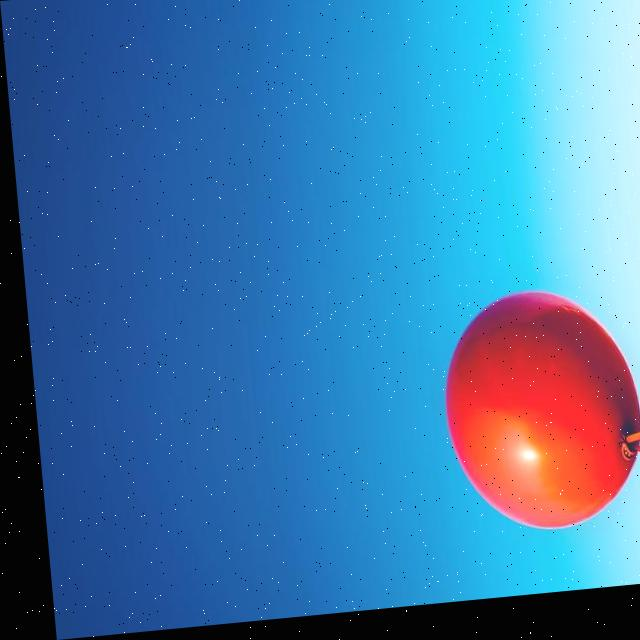balloon: (413, 283, 640, 555)
